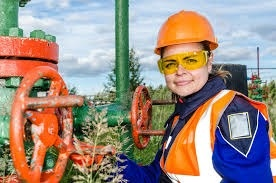helmet: (154, 10, 219, 56)
person with full safety: (126, 9, 273, 182)
safety vest: (159, 96, 261, 183)
